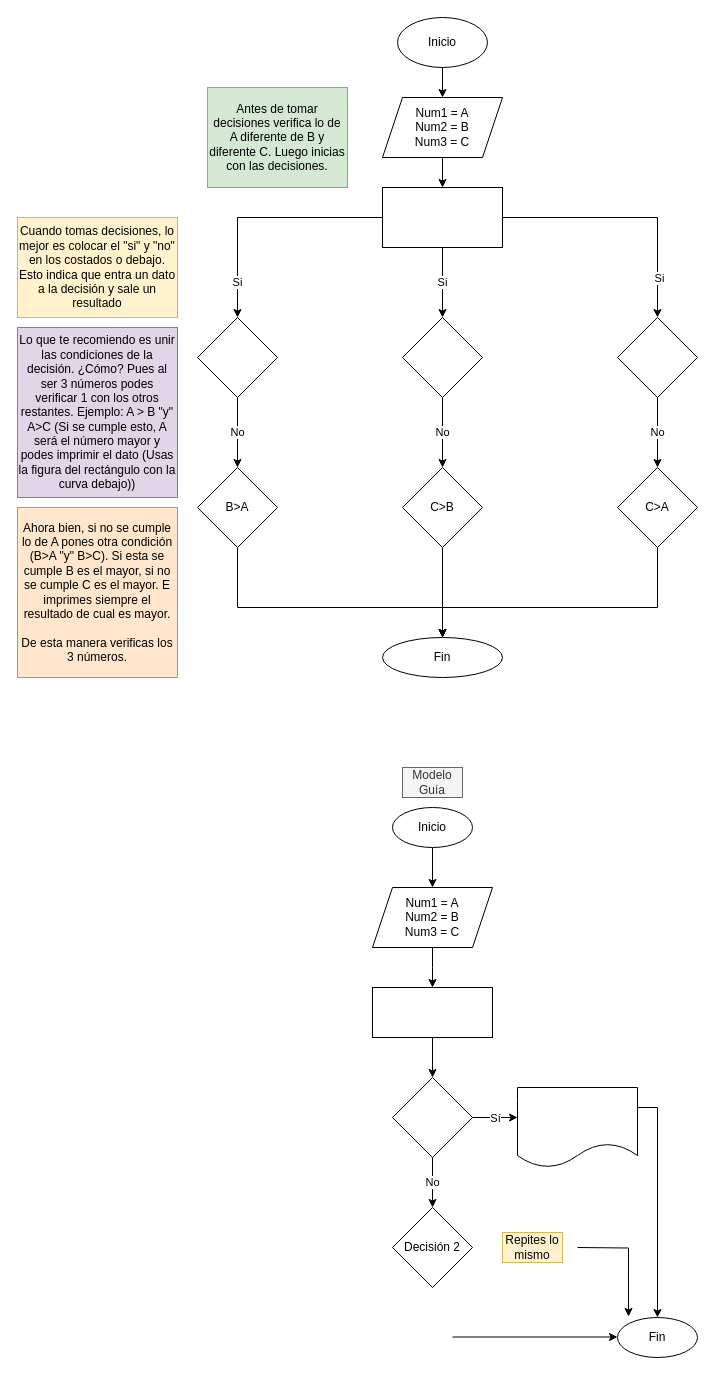
Image size: 715x1375. Some labels were removed from this diagram. Each missing label, with the centre of its shape:
A no es igual B B no es igual C A no es igual C: the point at 442,217
A>B: the point at 237,357
A>C: the point at 657,357
B>C: the point at 442,357
Comprobar si son iguales: the point at 432,1012
Decisión 1: the point at 432,1117
Imprimir ...: the point at 577,1127
